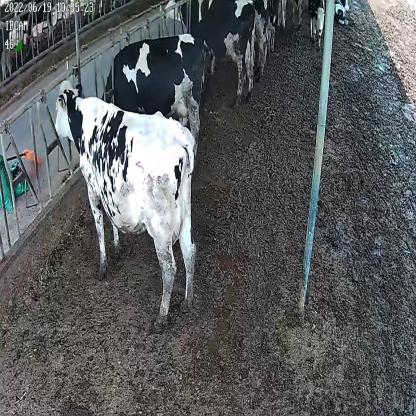cow: (54, 79, 198, 331), (95, 33, 214, 156), (162, 0, 258, 112), (307, 0, 328, 48), (334, 0, 350, 26)
